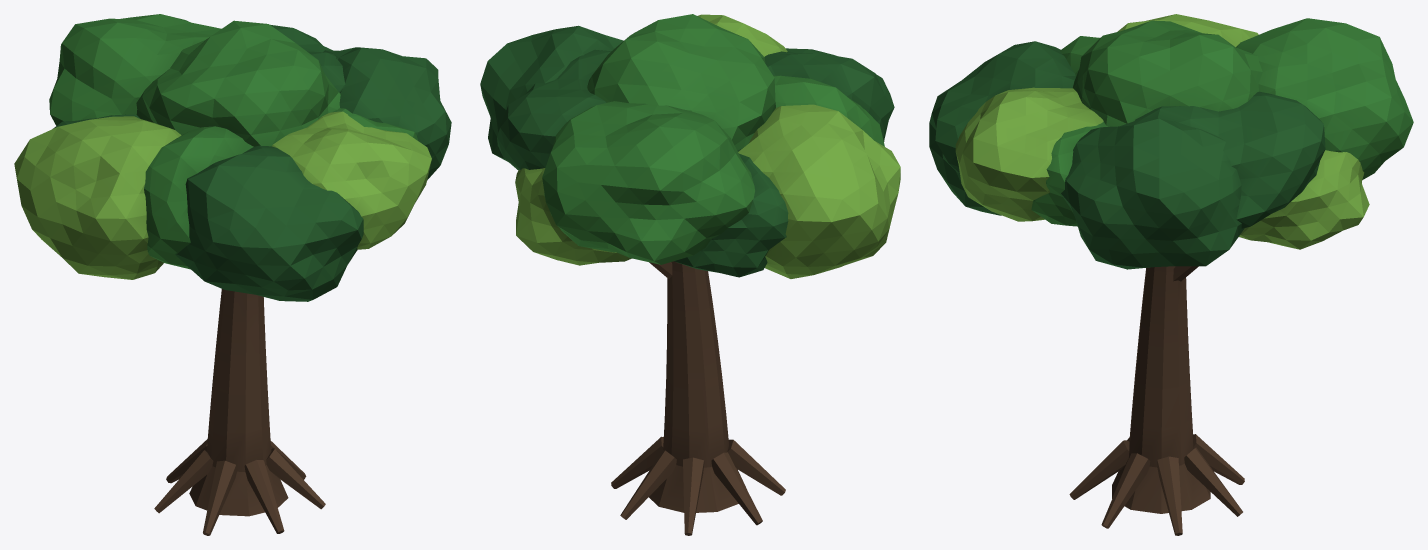
File: BigTree.fbx
3 renders of one model, left to right at view 1: azimuth 30°, elevation 25°; view 2: azimuth 150°, elevation 25°; view 3: azimuth 270°, elevation 25°, orthographic. The views are drawn at different scales.
Visible parts, largest first — view 1: BigTree; view 2: BigTree; view 3: BigTree.
Boxes of the visible parts, x1,y1,x2,y2 form: BigTree: [14, 14, 451, 535]; BigTree: [480, 14, 900, 535]; BigTree: [929, 14, 1413, 535].
Size of the model in its own units: 16.05 by 17.7 by 16.35.
